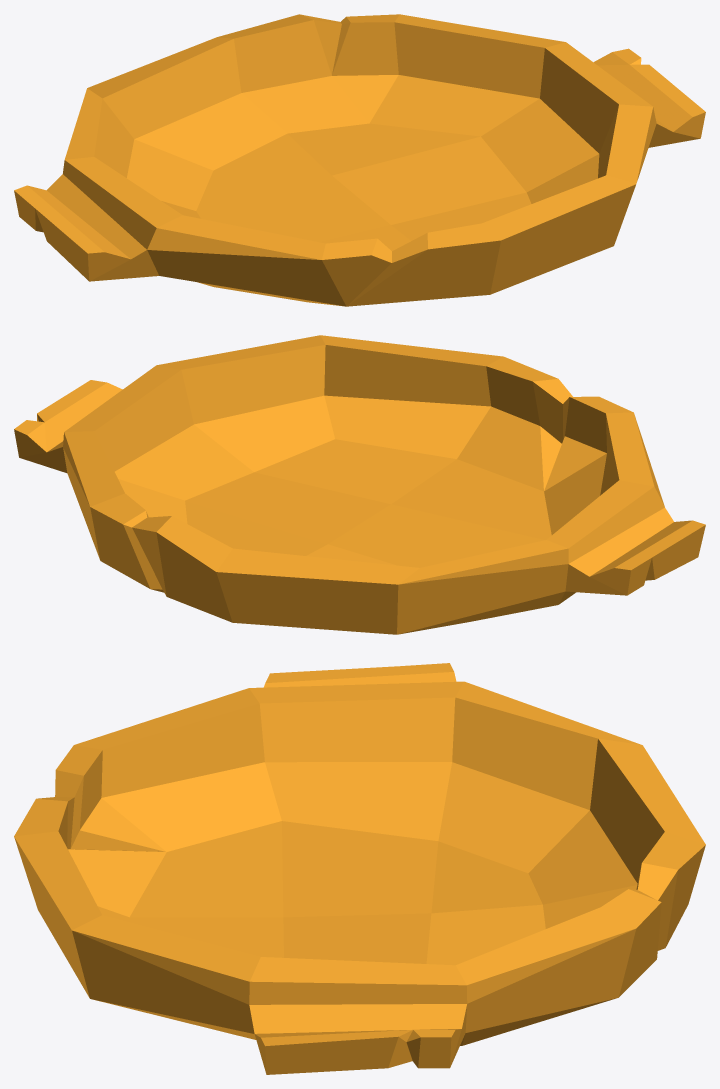
Rendered from SM_Plate_Wood_Basic_Handle.fbx.
3 renders of one model, top to bottom at view 1: azimuth 30°, elevation 25°; view 2: azimuth 150°, elevation 25°; view 3: azimuth 270°, elevation 25°, orthographic. The views are drawn at different scales.
Visible parts, largest first — view 1: plate-wood-basic-handle; view 2: plate-wood-basic-handle; view 3: plate-wood-basic-handle.
Part boxes in pixels (x1,y1,x2,y2): plate-wood-basic-handle: [14, 14, 705, 306]; plate-wood-basic-handle: [14, 335, 705, 634]; plate-wood-basic-handle: [14, 663, 705, 1074].
Size of the model in its own units: 0.3065 by 0.0463 by 0.2462.
